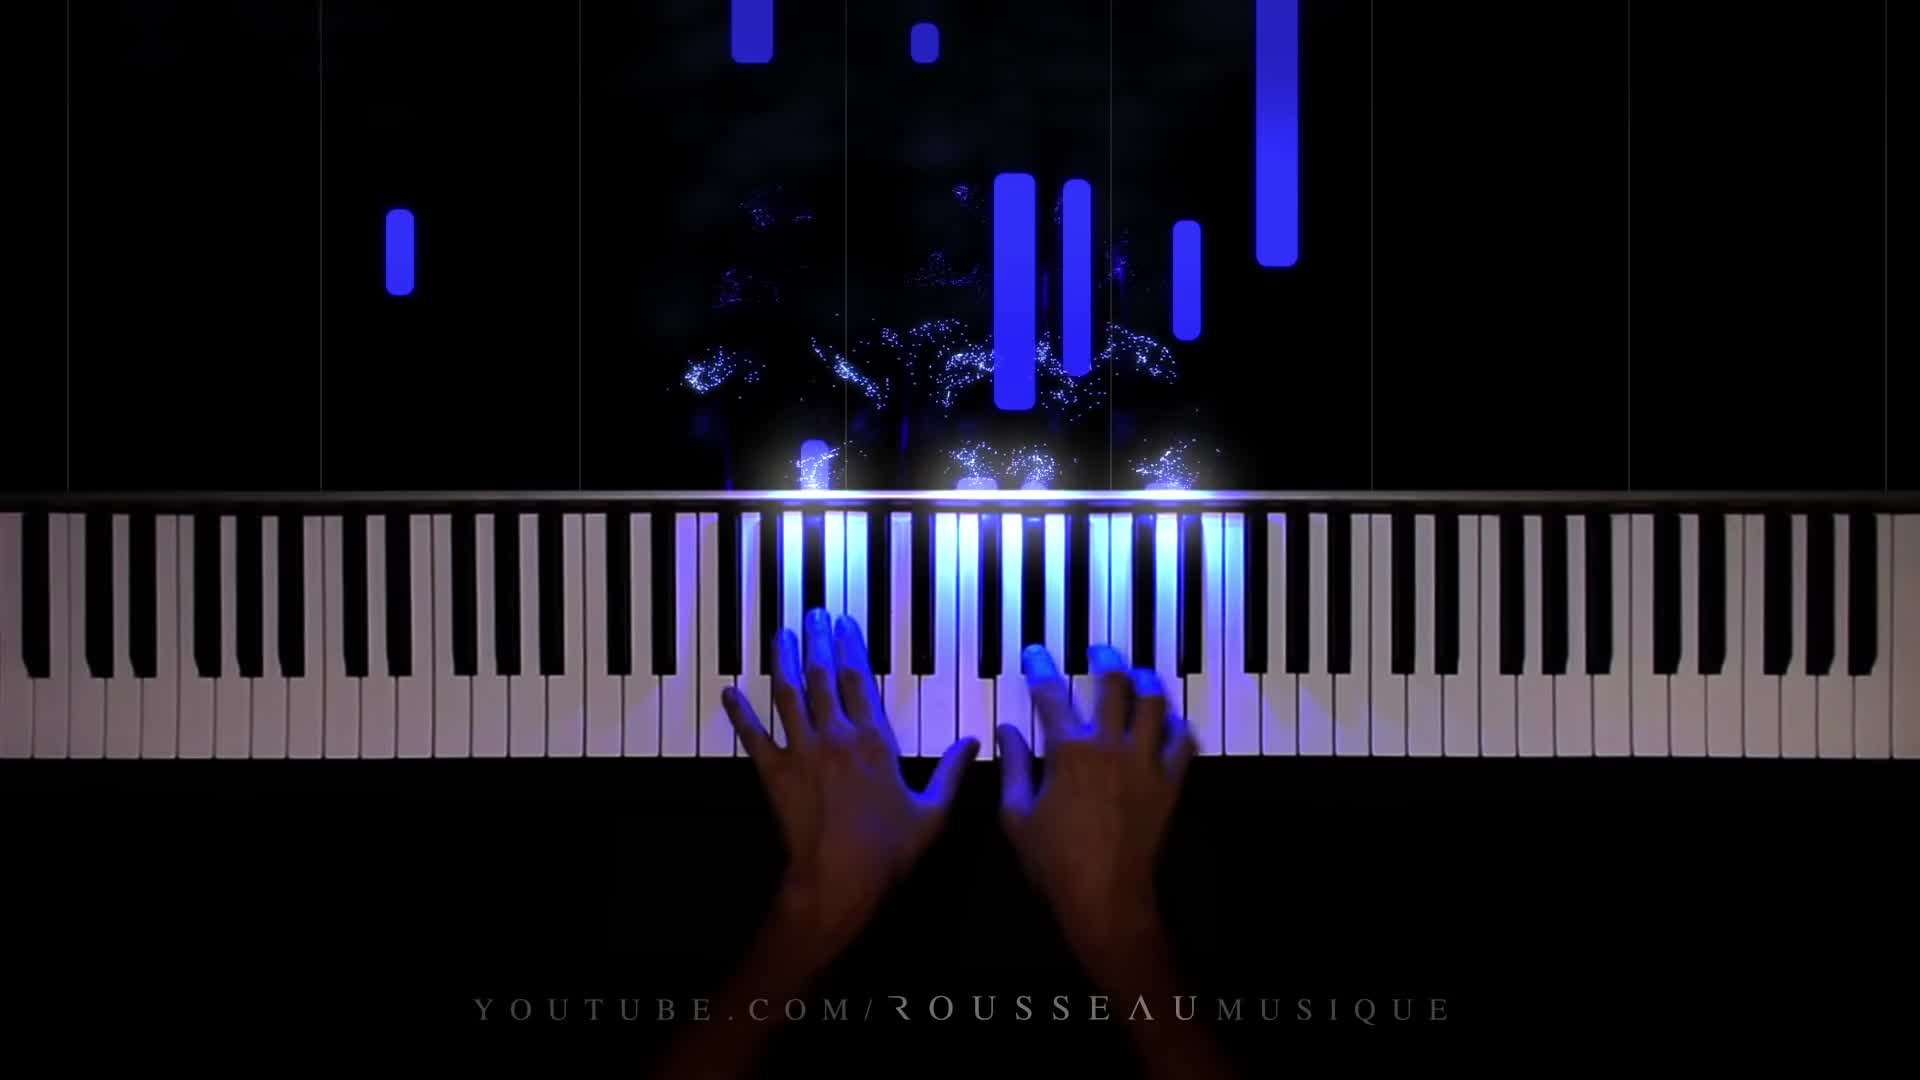left: (725, 603, 980, 895)
right: (993, 637, 1195, 916)
